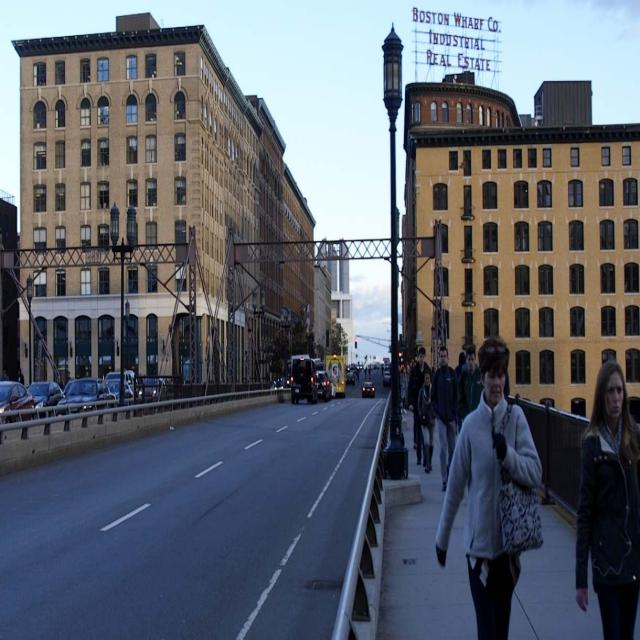body: (434, 336, 544, 640), (573, 358, 639, 639), (1, 361, 196, 425), (431, 343, 460, 493), (409, 346, 432, 466), (416, 370, 438, 475), (458, 345, 484, 420), (355, 353, 386, 382), (400, 365, 410, 415), (454, 350, 467, 374), (332, 363, 338, 379), (398, 363, 401, 372)
